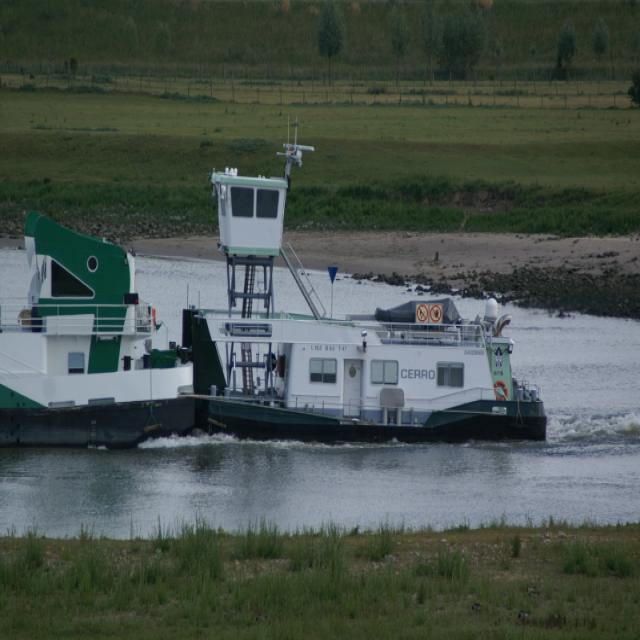tugboat: (177, 112, 552, 460)
